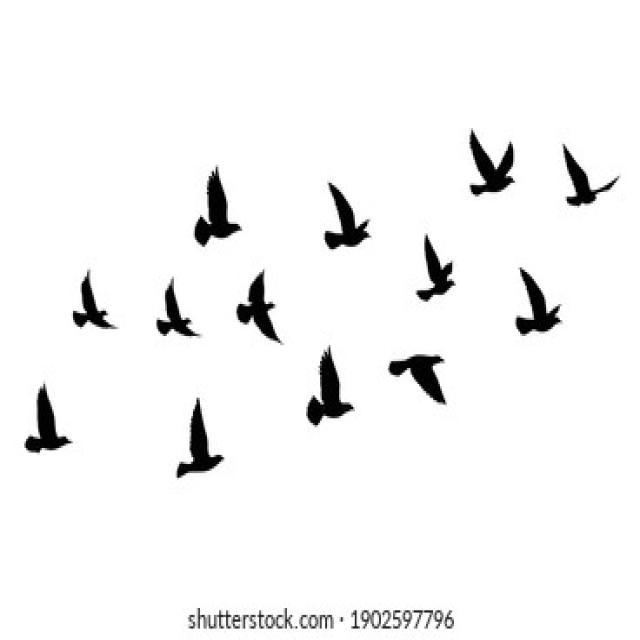bird: (150, 124, 255, 248), (441, 93, 532, 234), (3, 356, 92, 478), (288, 323, 368, 442), (166, 370, 246, 487), (298, 170, 385, 276), (376, 319, 456, 424), (548, 136, 630, 218), (55, 251, 121, 352), (505, 260, 580, 336), (226, 268, 303, 342), (410, 207, 468, 303), (143, 262, 204, 346)
